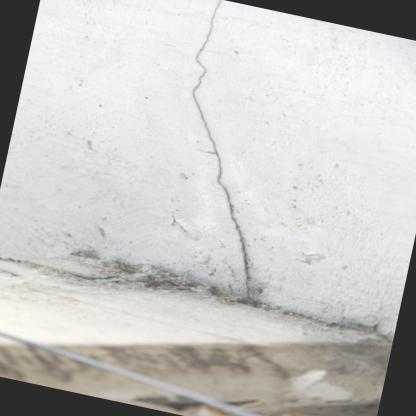crack: (191, 0, 252, 299)
